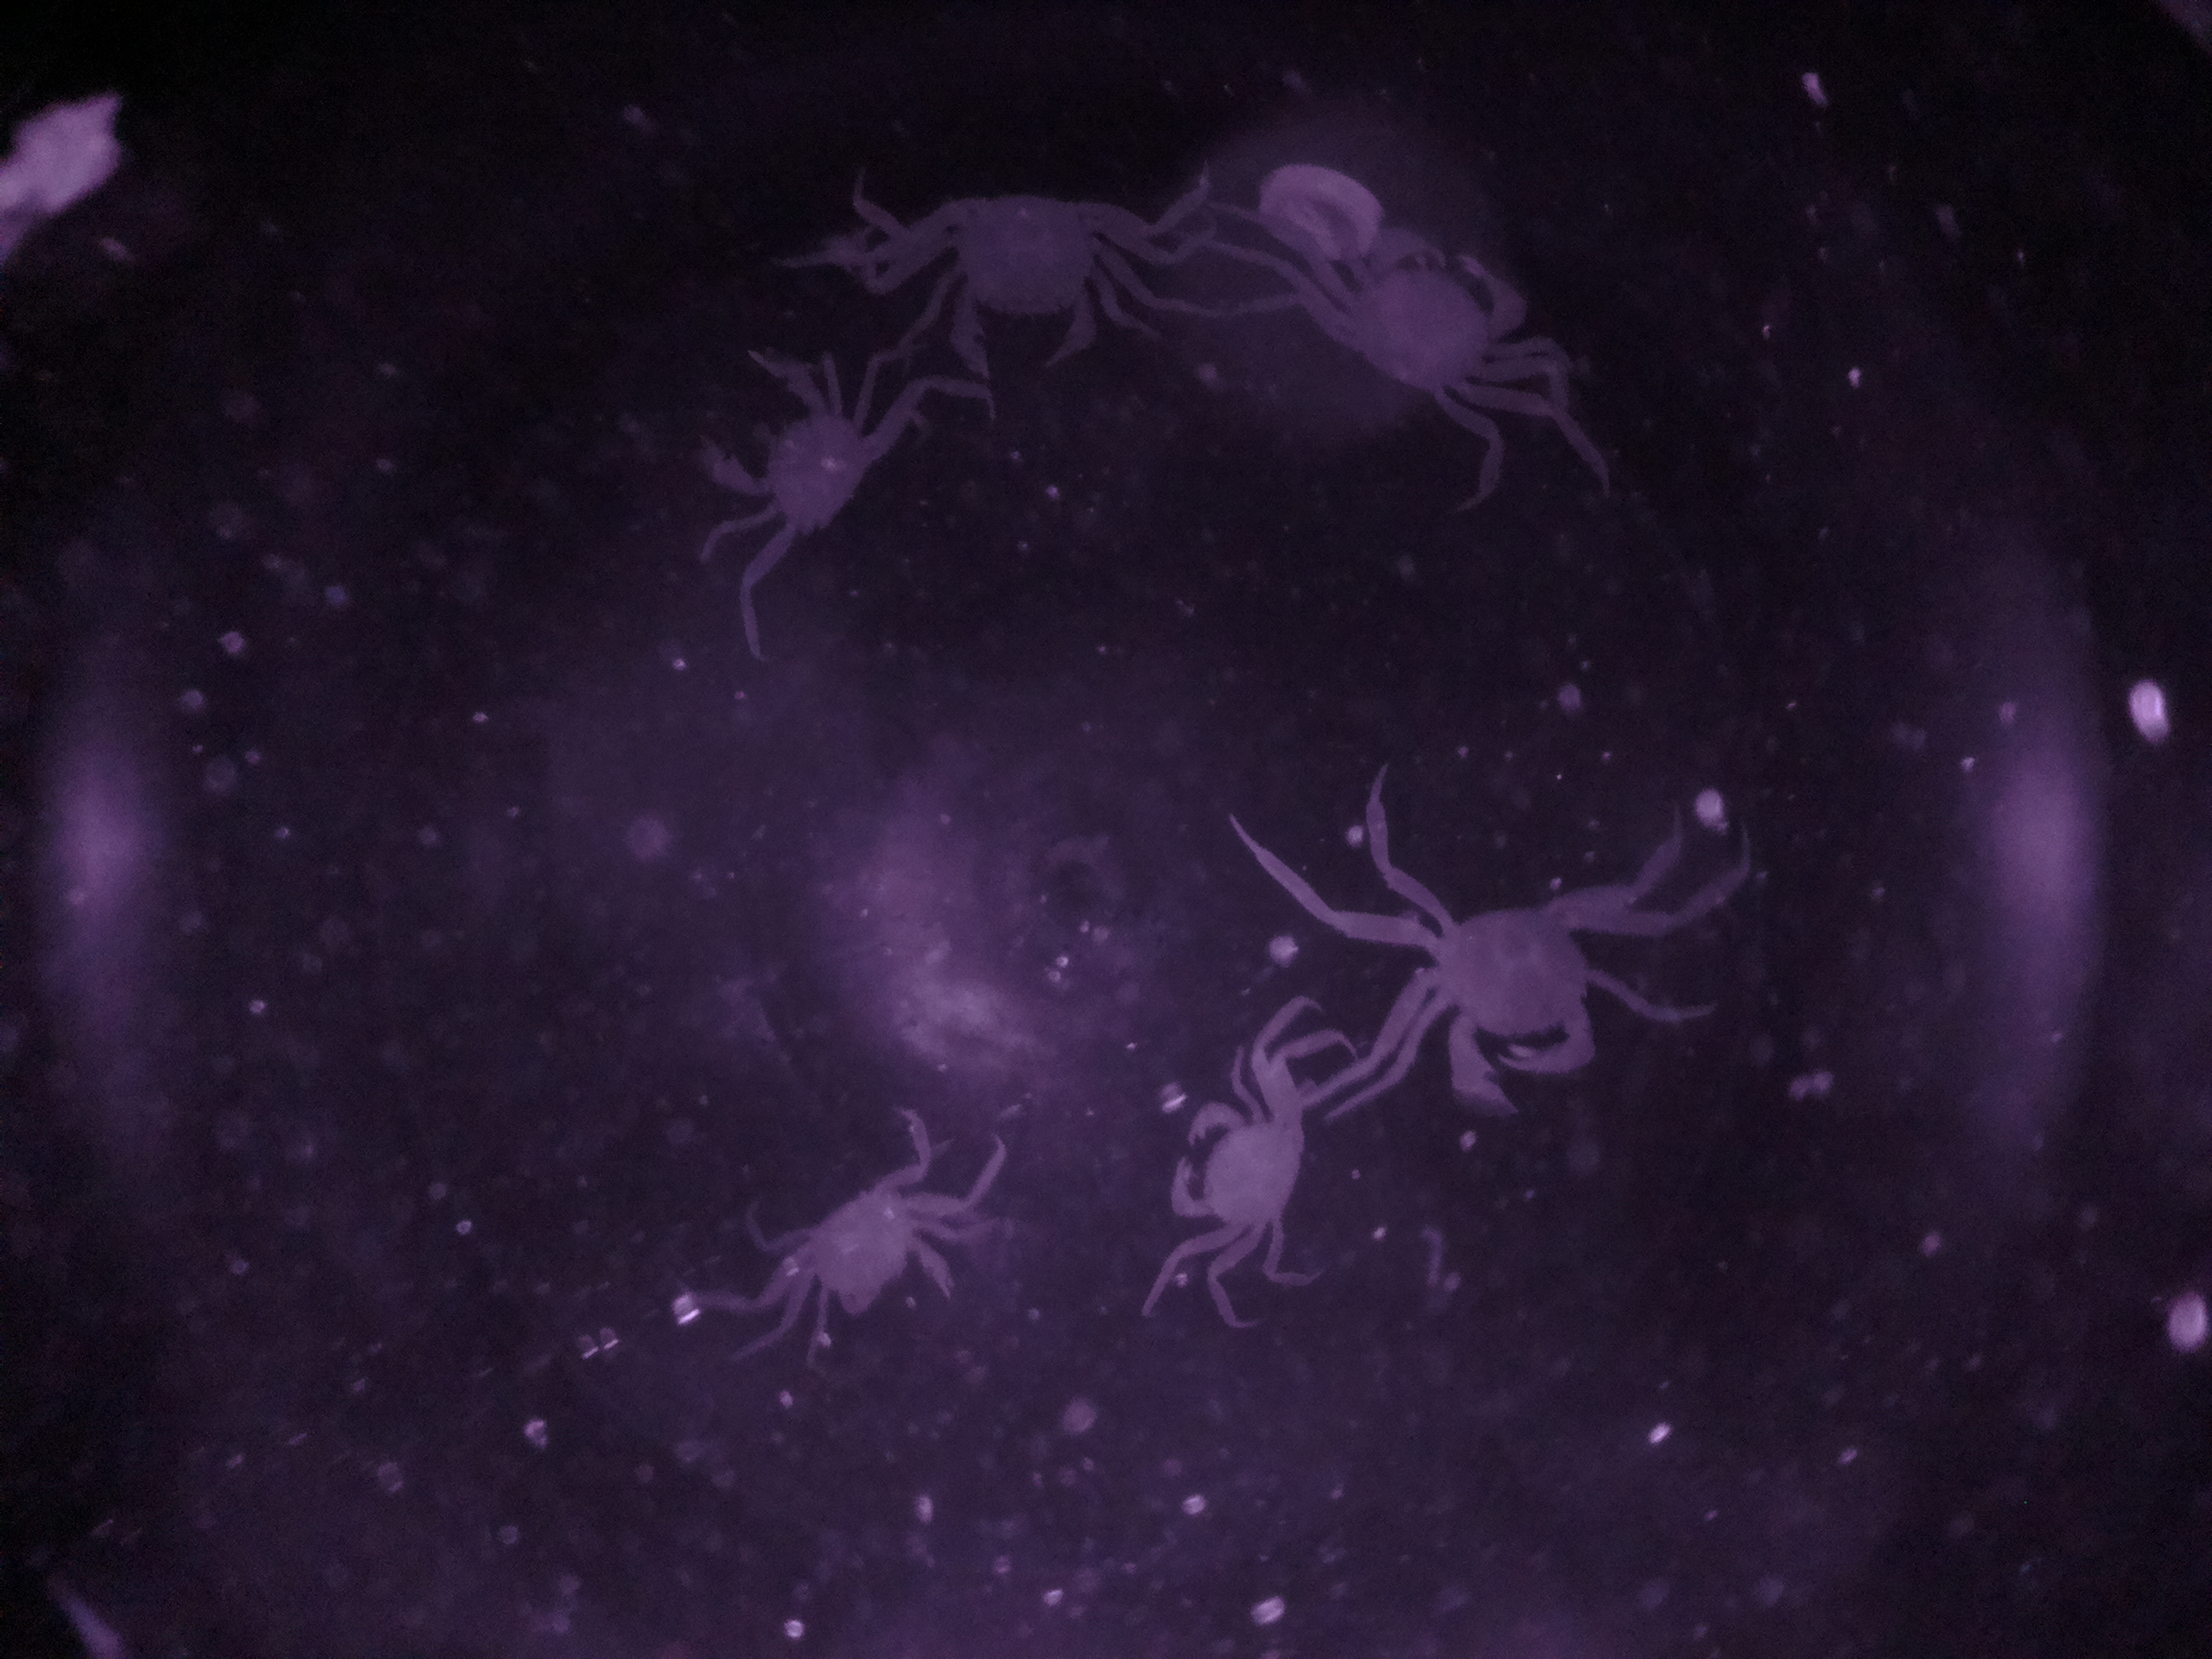Crab: (1362, 861, 1684, 1117), (881, 167, 1188, 394), (1254, 216, 1559, 441), (1129, 1053, 1372, 1295), (676, 336, 902, 549), (756, 1164, 991, 1351)
